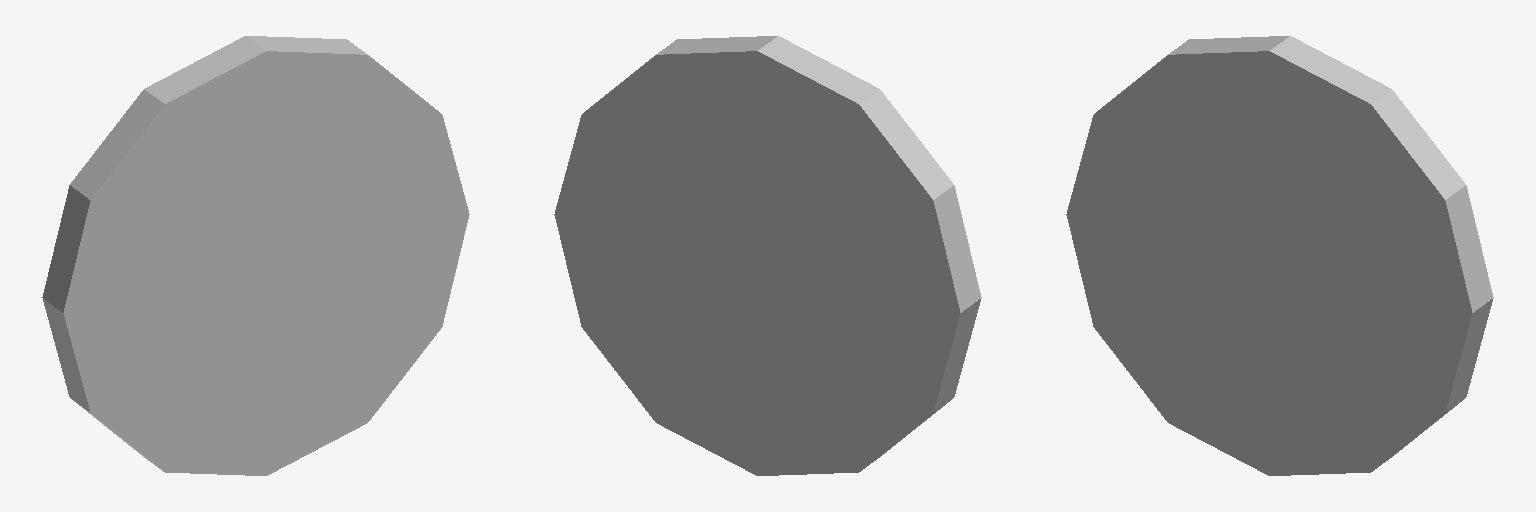
The model's file is Token.obj.
The picture shows the model from 3 angles: view 1: azimuth 30°, elevation 25°; view 2: azimuth 150°, elevation 25°; view 3: azimuth 330°, elevation 25°; orthographic projection.
Visible parts, largest first — view 1: default.005; view 2: default.005; view 3: default.005.
Part boxes in pixels (x1,y1,x2,y2): default.005: (42,36,469,475); default.005: (554,36,981,475); default.005: (1066,36,1493,475).
Bounding box in the file's own units: 13.15 × 13.15 × 1.18.